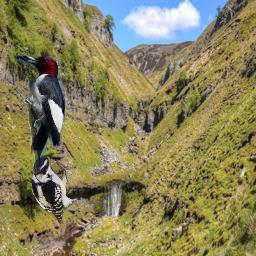Woodpecker: (16, 54, 65, 179), (32, 153, 78, 224)
